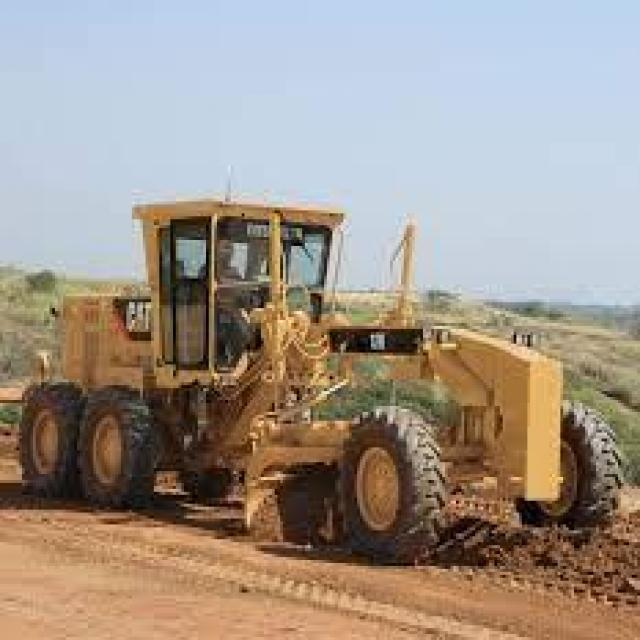Grader: (8, 163, 632, 578)
